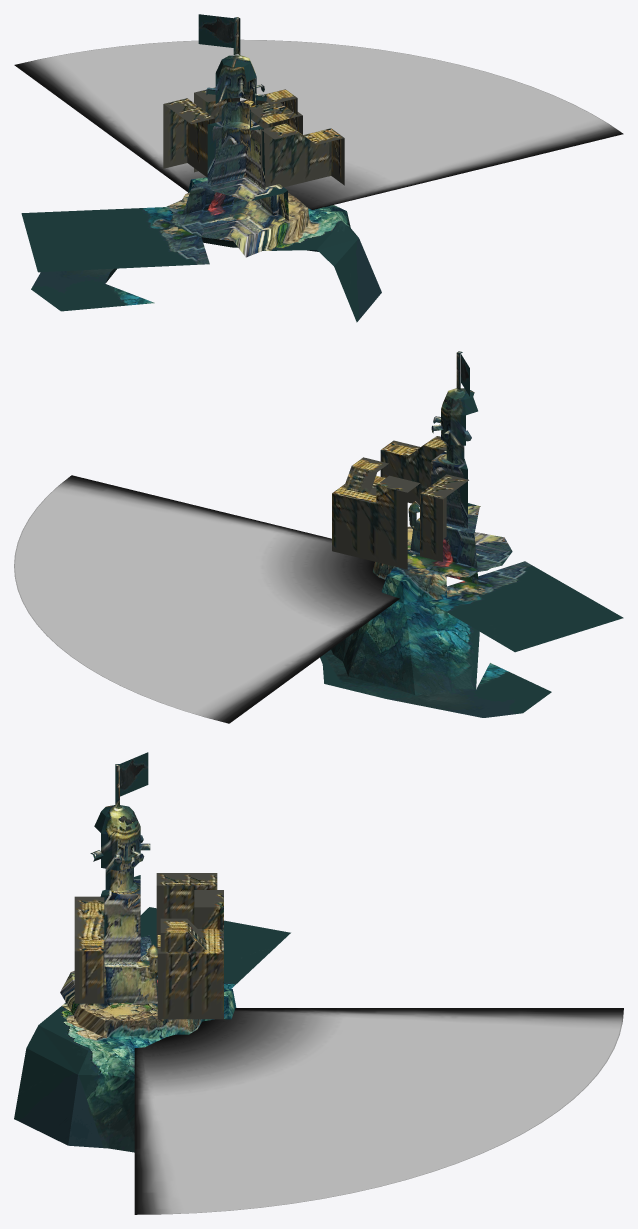
The model's file is F_PortRoyalCannonTower01.fbx.
3 renders of one model, top to bottom at view 1: azimuth 30°, elevation 25°; view 2: azimuth 150°, elevation 25°; view 3: azimuth 270°, elevation 25°, orthographic. The views are drawn at different scales.
Visible parts, largest first — view 1: GuildCannonTowerGuide, F_GuildCannonTower_01, T_BuildForm_03 (1), T_BuildForm_02 (4), T_BuildForm_01; view 2: GuildCannonTowerGuide, F_GuildCannonTower_01, T_BuildForm_01, T_BuildForm_03 (1), T_BuildForm_02 (4); view 3: GuildCannonTowerGuide, F_GuildCannonTower_01, T_BuildForm_01, T_BuildForm_03 (1), T_BuildForm_02 (4).
Boxes of the visible parts, <box> form: GuildCannonTowerGuide: <box>14,39,623,209</box>; F_GuildCannonTower_01: <box>21,14,381,322</box>; T_BuildForm_03 (1): <box>261,123,344,188</box>; T_BuildForm_02 (4): <box>163,98,214,177</box>; T_BuildForm_01: <box>194,87,302,172</box>; GuildCannonTowerGuide: <box>14,475,399,723</box>; F_GuildCannonTower_01: <box>320,351,623,717</box>; T_BuildForm_01: <box>332,457,420,569</box>; T_BuildForm_03 (1): <box>380,436,446,504</box>; T_BuildForm_02 (4): <box>420,474,468,561</box>; GuildCannonTowerGuide: <box>134,1008,623,1214</box>; F_GuildCannonTower_01: <box>14,752,290,1152</box>; T_BuildForm_01: <box>157,890,223,1019</box>; T_BuildForm_03 (1): <box>74,896,104,1003</box>; T_BuildForm_02 (4): <box>156,873,217,947</box>.
Size of the model in its own units: 5.99 by 2.86 by 4.99.
Materials: 3 (3 with a texture image).
